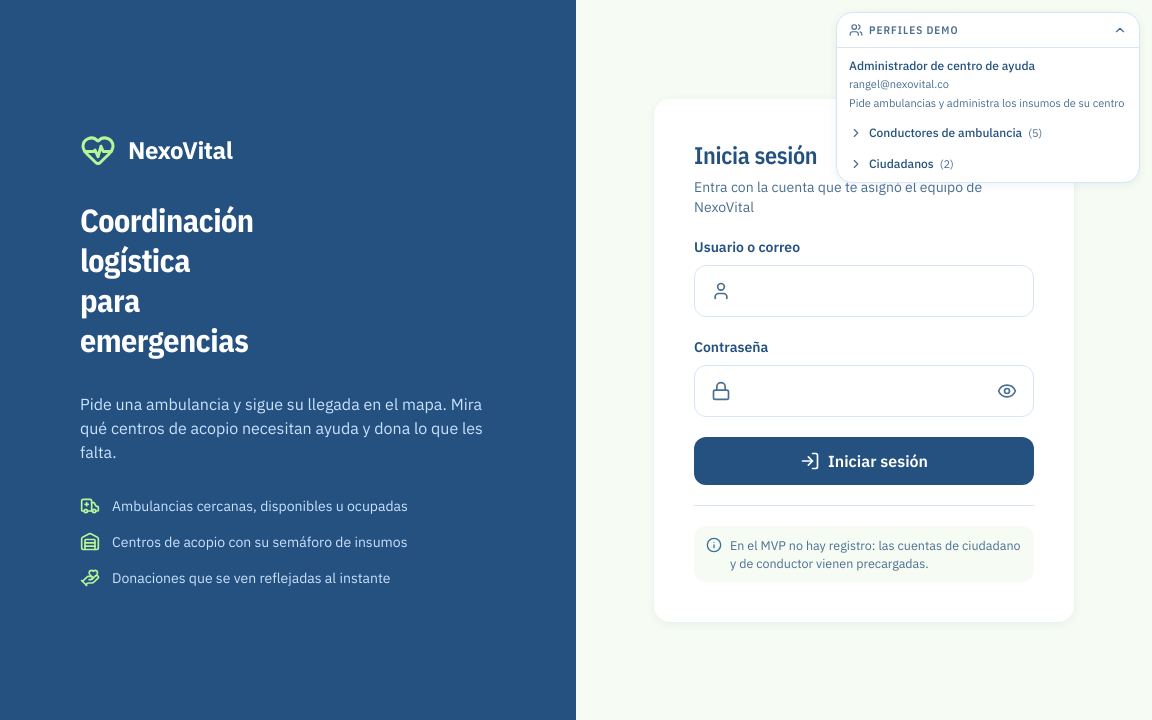
LoginPage › shows the backend message on 401 and stays on the login screen
In the field labelled "Usuario o correo": (880, 290) 743,266 -> 1017,316, type "conductor1@nexovital.co"
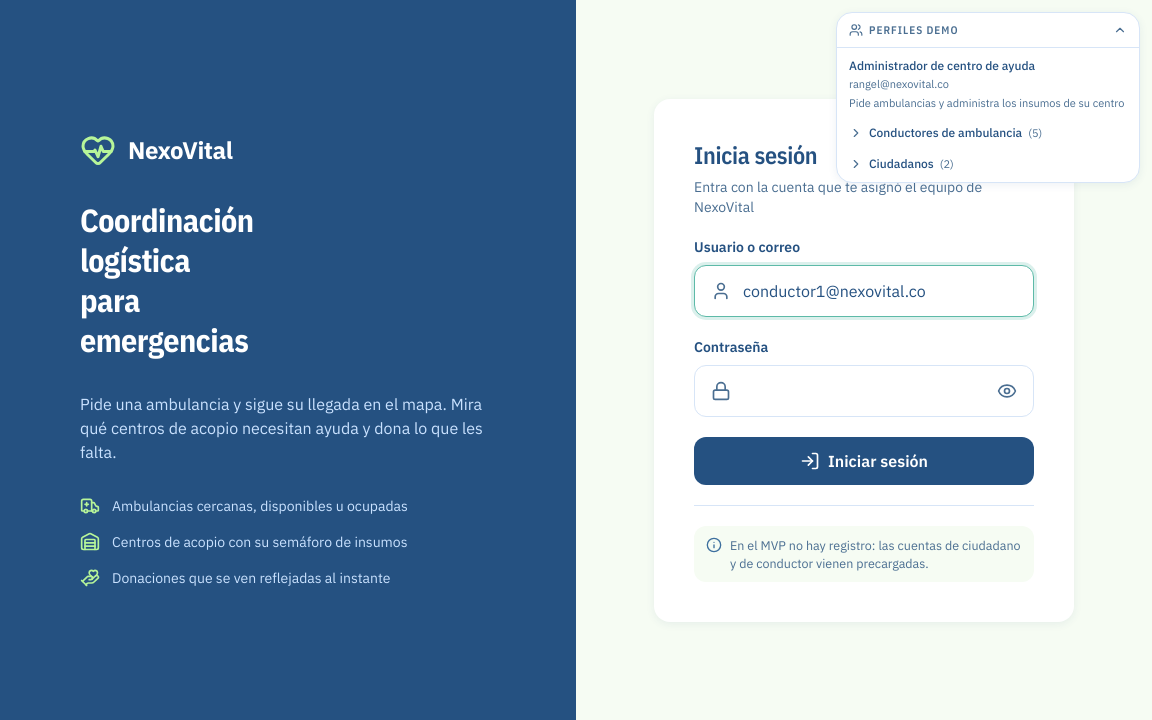
In the password field labelled "Contraseña": (864, 390) 743,366 -> 985,416, type "conductor123"
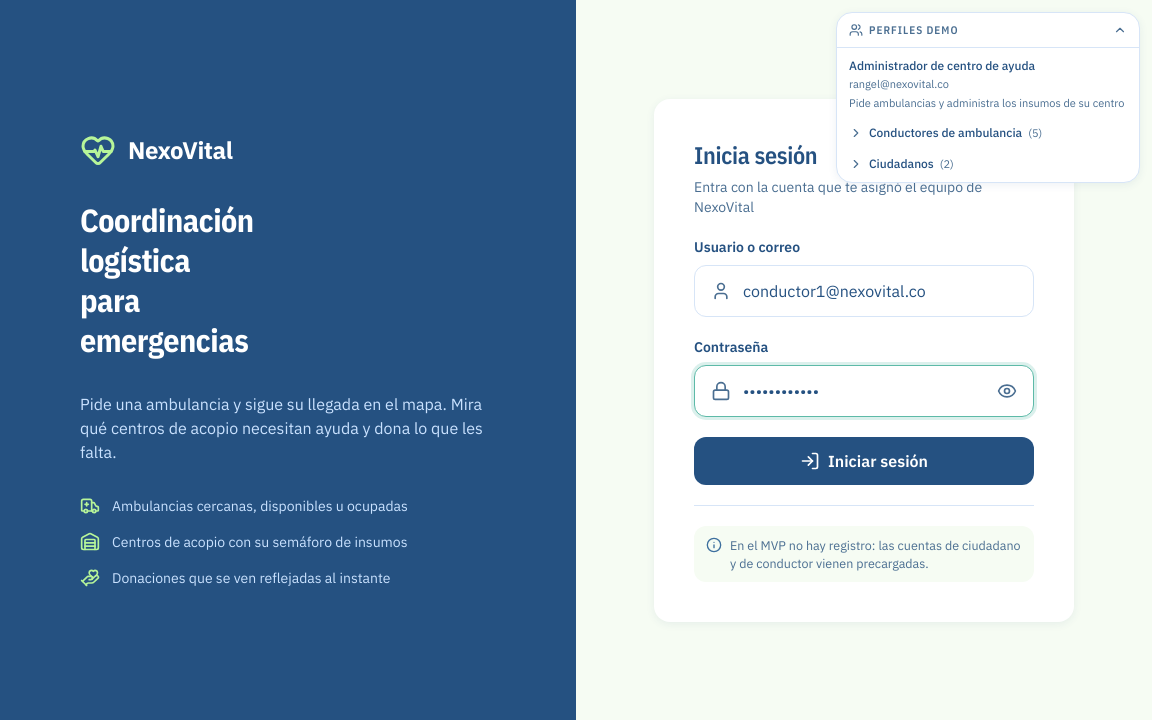
Click the button "Iniciar sesión": (864, 460) 694,436 -> 1034,484
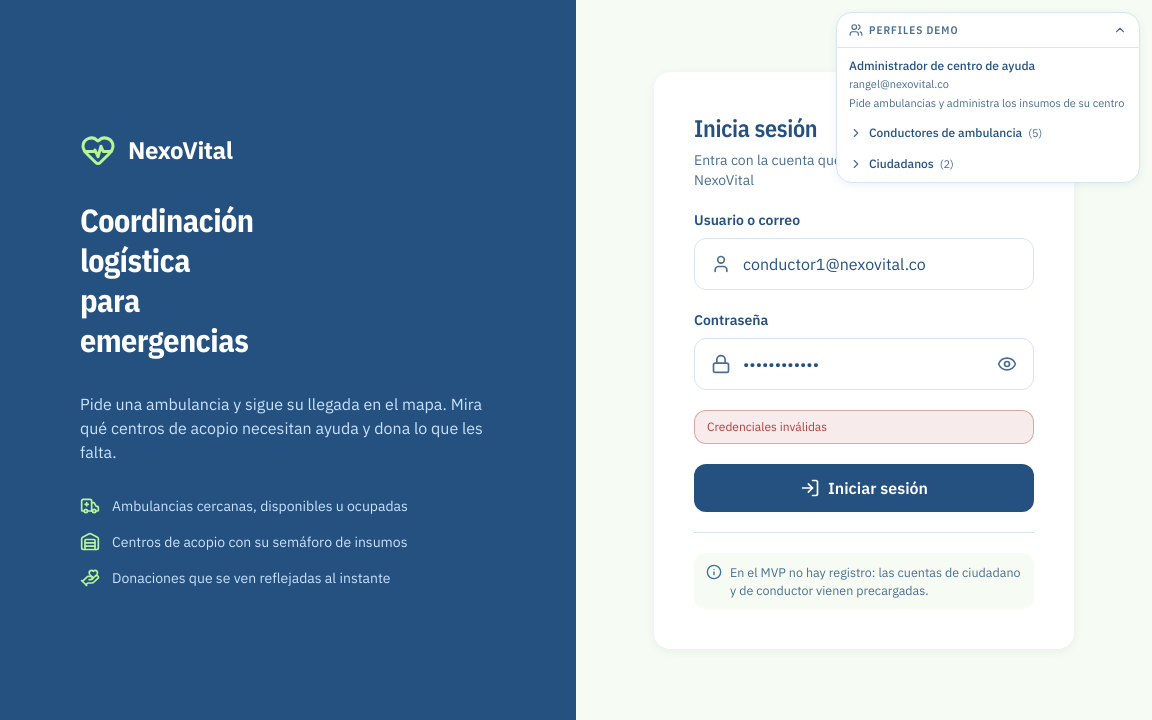
Expected: the message reads "Credenciales inválidas", 707,418 -> 827,434
